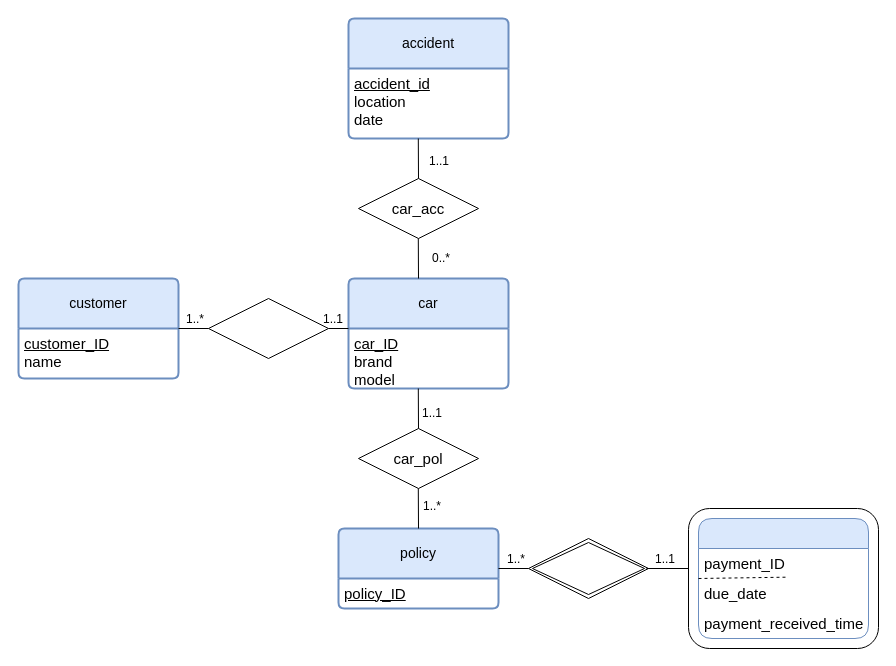
The diagram is 896 pixels wide and 666 high, and some of its shapes have lost their labels. The box of each missing label's shape, as (x1, y1, x2, y2) in pixels:
cus_car: (208, 298, 328, 358)
pol_pay: (528, 538, 648, 598)
premium_payments: (698, 518, 868, 638)
